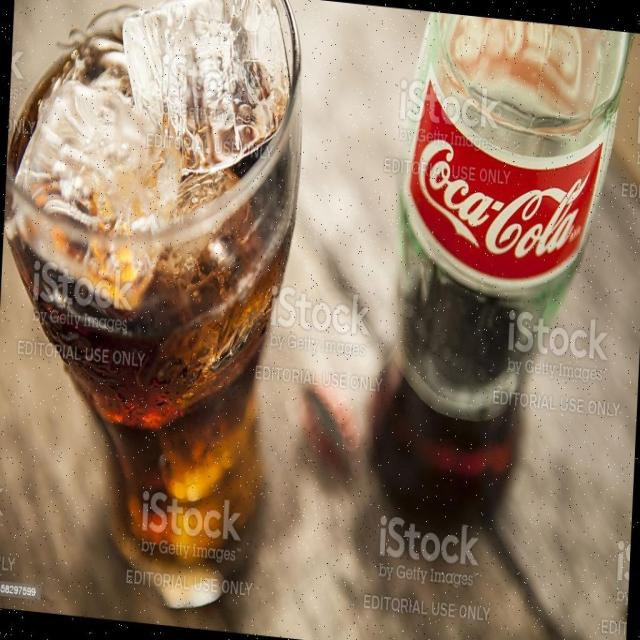coca-cola: (357, 6, 625, 547)
